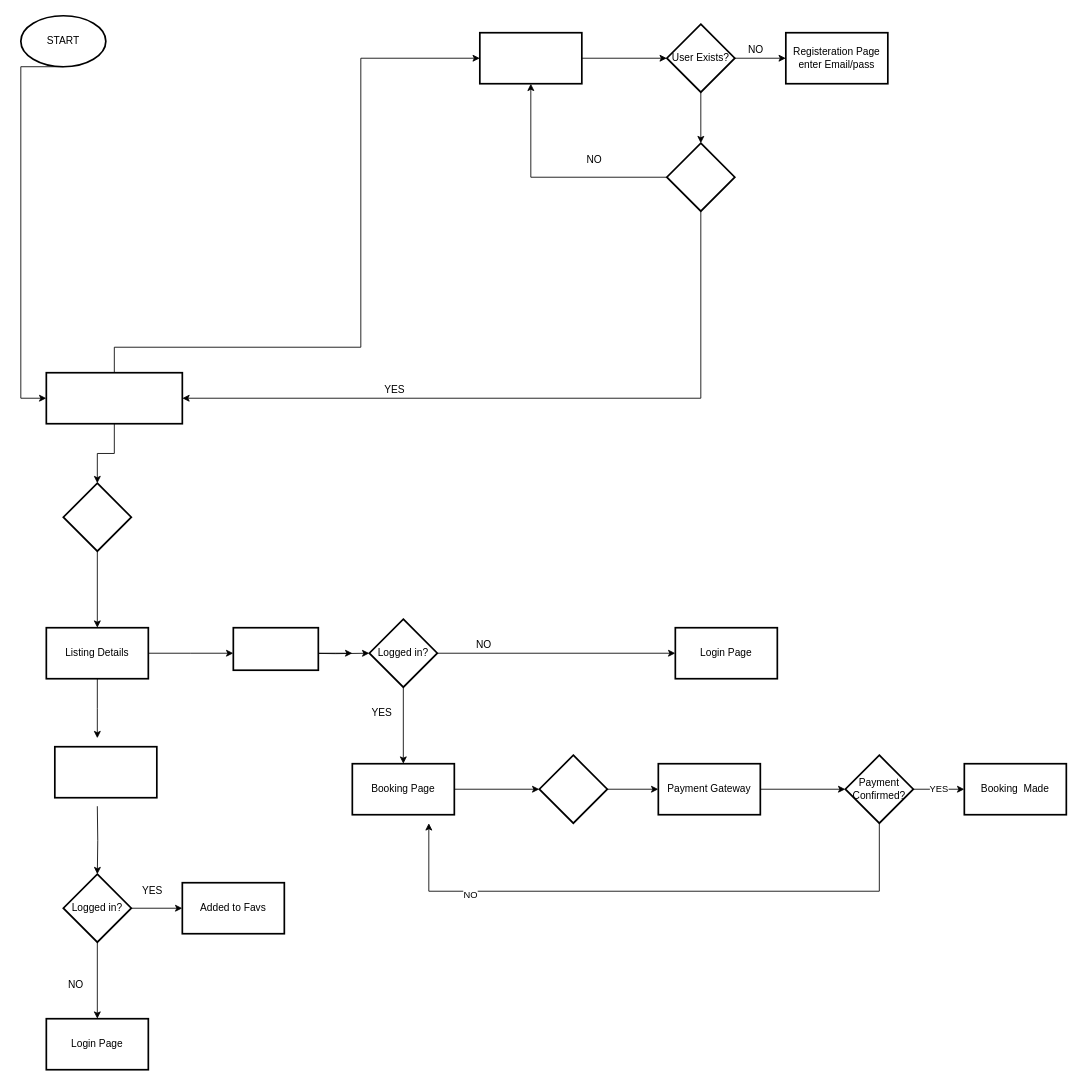
This 1082x1085 diagram has some shape labels left out. Here are the shapes that lost their labels. From the top down, the centre of each, then its label:
At point (530, 57): "Login Page: User enter email/ password".
At point (700, 177): "Increndials correct?".
At point (114, 397): "View all the listings".
At point (97, 517): "Click on listings to view more".
At point (275, 648): "Make a Booking".
At point (105, 771): "Add to Favourites".
At point (573, 789): "Confirm Booking".
